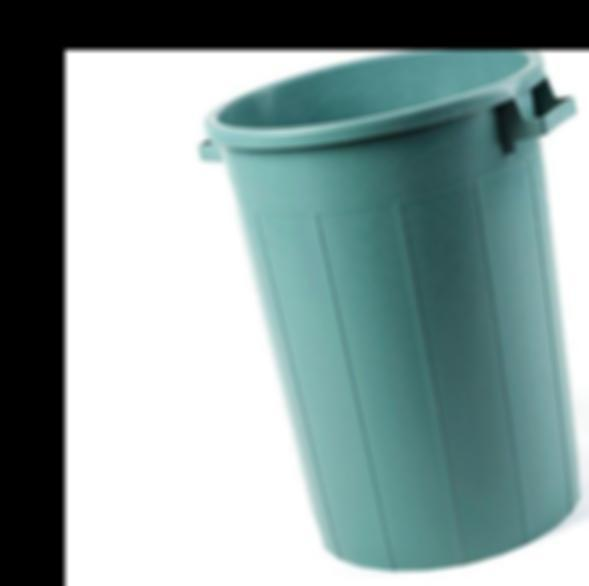Bote de Basura: (213, 50, 584, 578)
